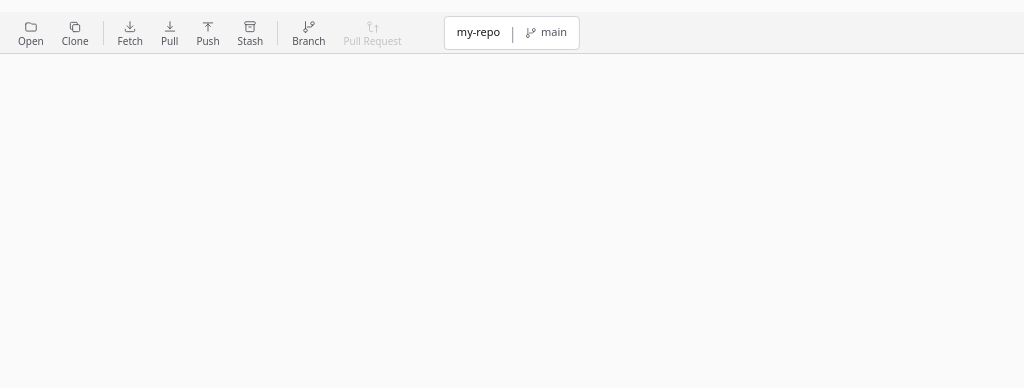
ActionToolbar › Clone flyover › opens the clone form when Clone is clicked
This screenshot has width=1024, height=388.
Click the button with test id "toolbar-btn-Clone".
click(75, 32)  # box [54,16,97,50]
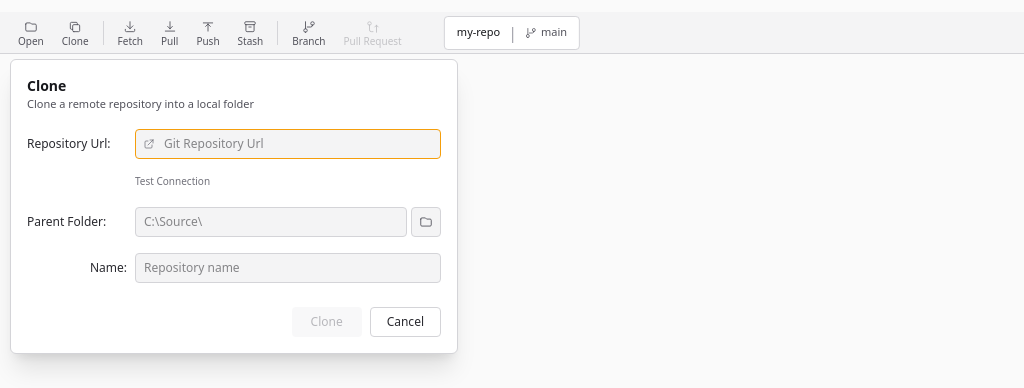
Result: the field with placeholder "Git Repository Url" is shown at [135,128,441,158]
Result: the text "Clone a remote repository into a local folder" is shown at [27,96,254,111]
